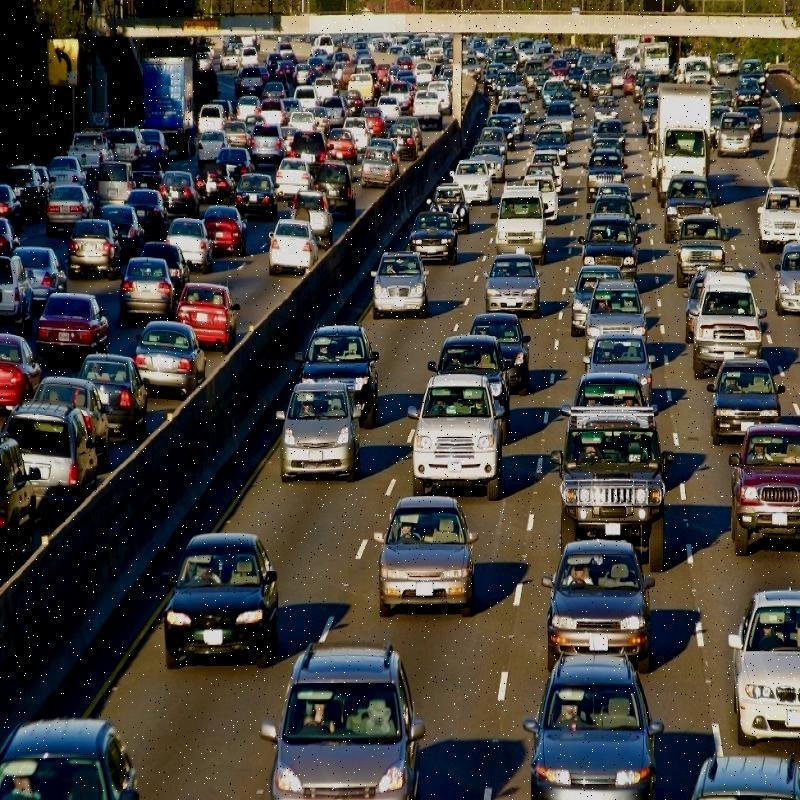car: (526, 631, 657, 798), (278, 653, 422, 800), (168, 526, 291, 676), (562, 408, 676, 545), (710, 417, 800, 588), (536, 538, 650, 646), (407, 380, 499, 508), (720, 597, 800, 731), (272, 373, 367, 477), (378, 484, 472, 587), (666, 216, 740, 343), (555, 329, 653, 408), (697, 363, 782, 451), (458, 303, 538, 388), (26, 405, 95, 502), (574, 185, 643, 280), (698, 269, 764, 362), (37, 284, 103, 368), (316, 326, 379, 412), (134, 312, 204, 388), (268, 217, 326, 304), (586, 260, 638, 352), (468, 254, 542, 316), (484, 187, 542, 263), (185, 274, 237, 358), (407, 213, 454, 304), (369, 258, 436, 316), (124, 252, 167, 305), (591, 132, 630, 190)
